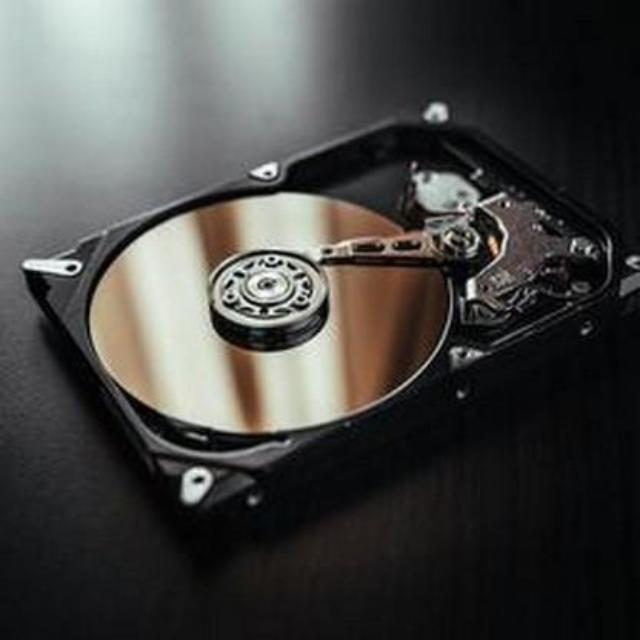DISK: (20, 97, 640, 552)
